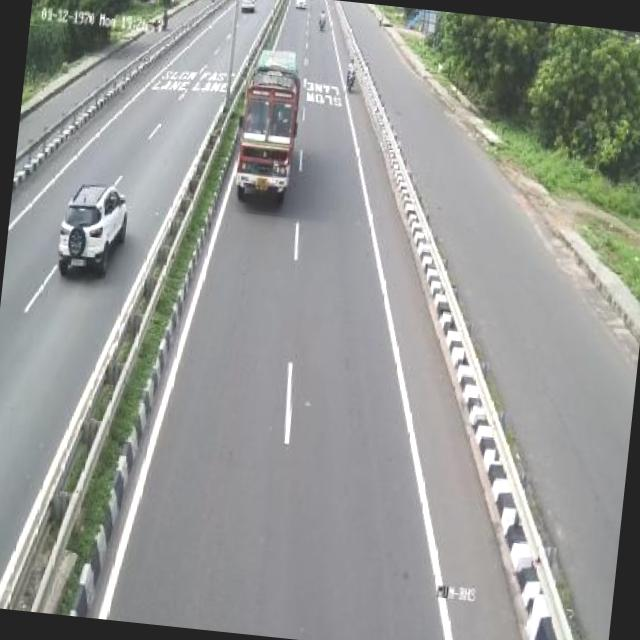car: (57, 176, 132, 282)
